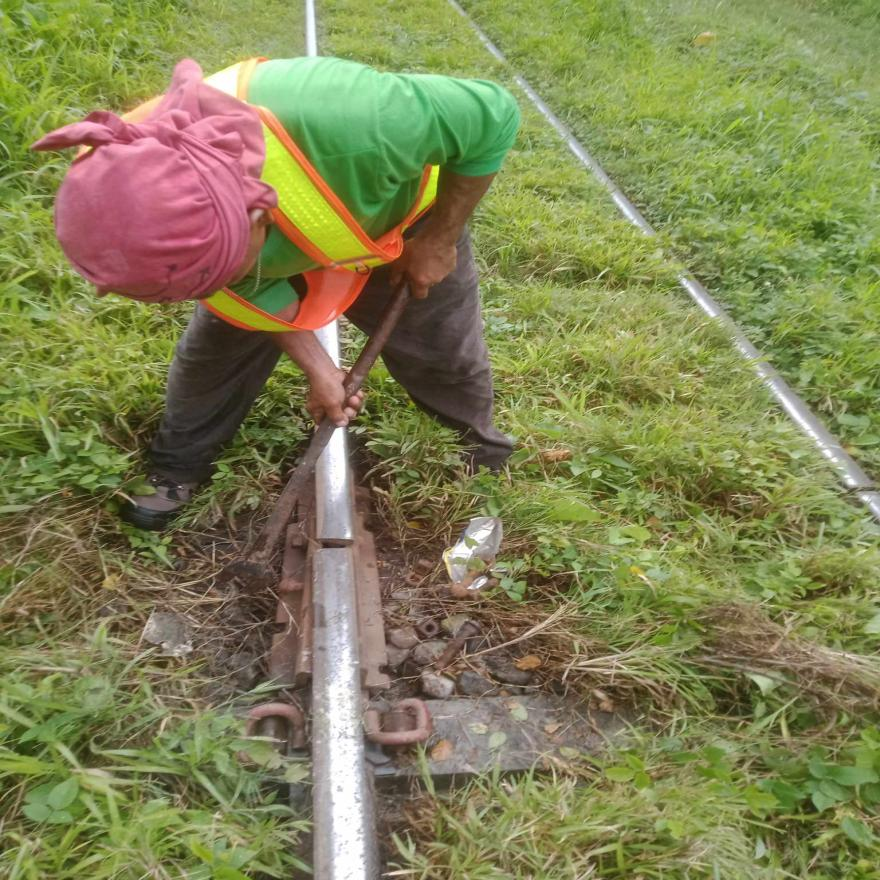railway-gap: (272, 502, 396, 590), (839, 454, 880, 532)
